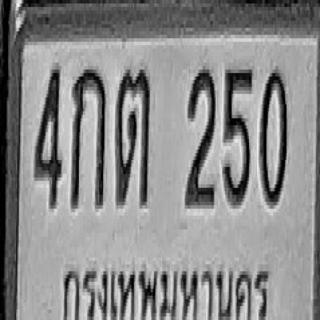A01: (70, 64, 105, 207)
A21: (116, 66, 149, 205)
N00: (259, 68, 287, 204)
N02: (185, 66, 216, 205)
N04: (34, 64, 62, 207)
N05: (223, 66, 252, 205)
P04: (55, 247, 278, 320)
